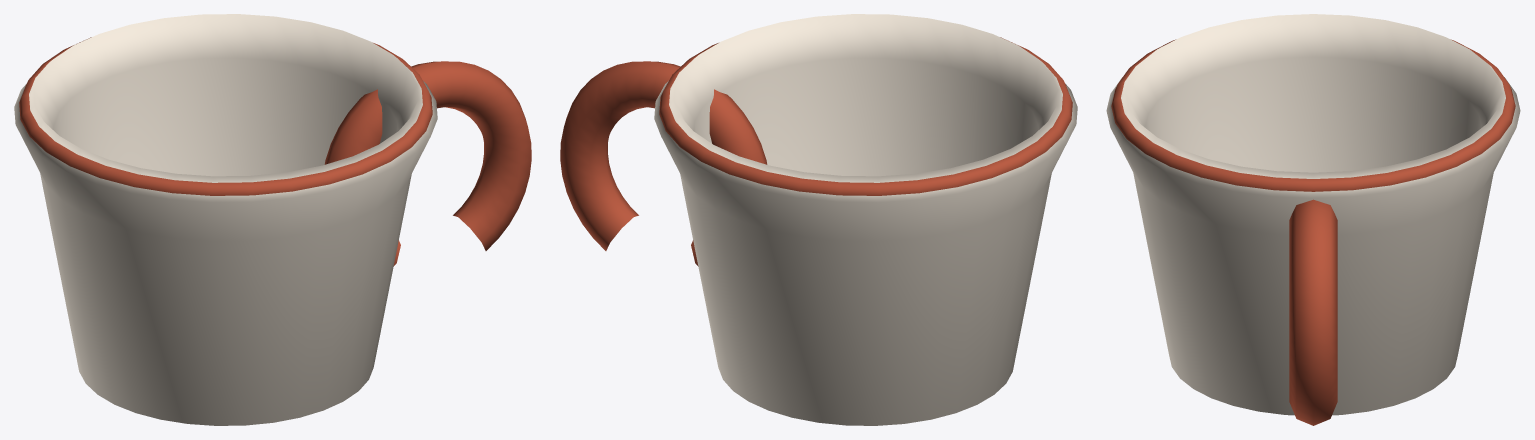
File: cup.glb
3 renders of one model, left to right at view 1: azimuth 30°, elevation 25°; view 2: azimuth 150°, elevation 25°; view 3: azimuth 270°, elevation 25°, orthographic. The views are drawn at different scales.
Visible parts, largest first — view 1: surface-#F0E6D8,0,0.7, surface-#B5543A,0,0.7; view 2: surface-#F0E6D8,0,0.7, surface-#B5543A,0,0.7; view 3: surface-#F0E6D8,0,0.7, surface-#B5543A,0,0.7.
Boxes of the visible parts, bbox=[...] form: surface-#F0E6D8,0,0.7: bbox=[14, 14, 437, 425]; surface-#B5543A,0,0.7: bbox=[19, 37, 531, 266]; surface-#F0E6D8,0,0.7: bbox=[654, 14, 1077, 425]; surface-#B5543A,0,0.7: bbox=[560, 37, 1072, 266]; surface-#F0E6D8,0,0.7: bbox=[1106, 14, 1520, 415]; surface-#B5543A,0,0.7: bbox=[1111, 39, 1515, 425].
Size of the model in its own units: 0.114 by 0.065 by 0.086.
